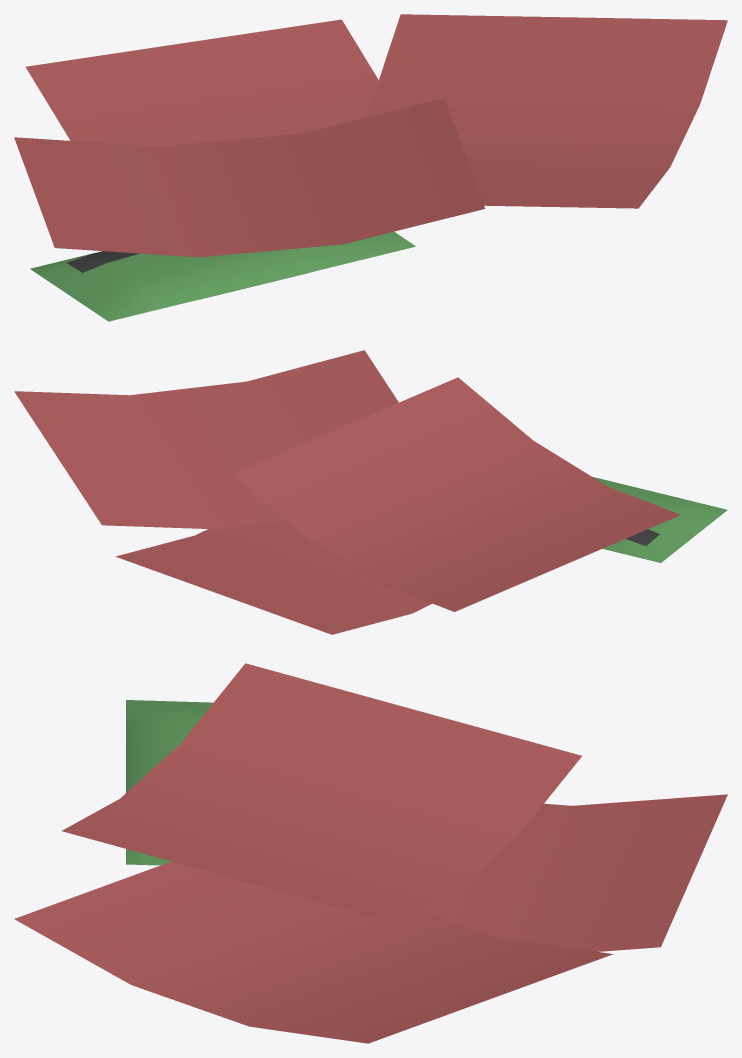
File: Pile_4.fbx
The picture shows the model from 3 angles, top to bottom: view 1: azimuth 30°, elevation 25°; view 2: azimuth 150°, elevation 25°; view 3: azimuth 270°, elevation 25°; orthographic projection. The views are drawn at different scales.
Parts seen in each view (by area): view 1: Pile_4; view 2: Pile_4; view 3: Pile_4.
Boxes of the visible parts, box(x1,y1,x2,y2) form: Pile_4: box(14, 14, 727, 321); Pile_4: box(14, 350, 727, 634); Pile_4: box(14, 663, 727, 1043).
Size of the model in its own units: 2.13 by 0.1841 by 1.65.
